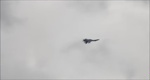maybay_muctieu: (82, 34, 101, 45)
